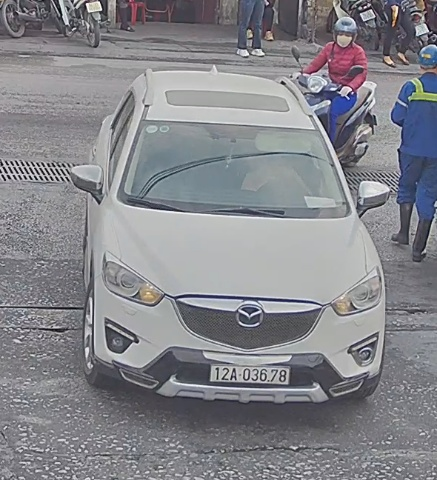vehicle plate: (209, 361, 294, 389)
